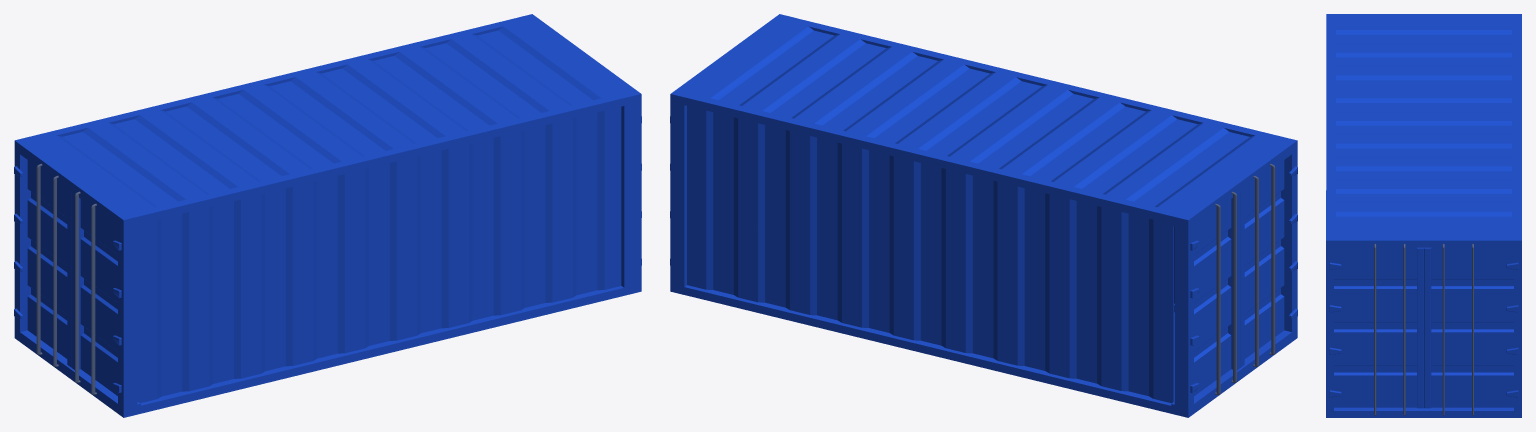
File: Container.DAE
3 renders of one model, left to right at view 1: azimuth 30°, elevation 25°; view 2: azimuth 150°, elevation 25°; view 3: azimuth 270°, elevation 25°, orthographic. The views are drawn at different scales.
Parts seen in each view (by area): view 1: Layer_Laye, Layer_Lay0, Layer_00, Layer_Lay1; view 2: Layer_00, Layer_Lay0, Layer_Lay1; view 3: Layer_00, Layer_Lay0, Layer_Lay1.
Boxes of the visible parts, x1,y1,x2,y2 form: Layer_Laye: [137, 107, 621, 403]; Layer_Lay0: [37, 20, 623, 213]; Layer_00: [14, 14, 641, 417]; Layer_Lay1: [36, 163, 96, 394]; Layer_00: [670, 14, 1297, 417]; Layer_Lay0: [688, 20, 1277, 213]; Layer_Lay1: [1215, 164, 1275, 394]; Layer_00: [1326, 14, 1521, 417]; Layer_Lay0: [1331, 21, 1516, 234]; Layer_Lay1: [1374, 244, 1473, 415].
Bounding box in the file's own units: 5587 × 2003 × 2000.
